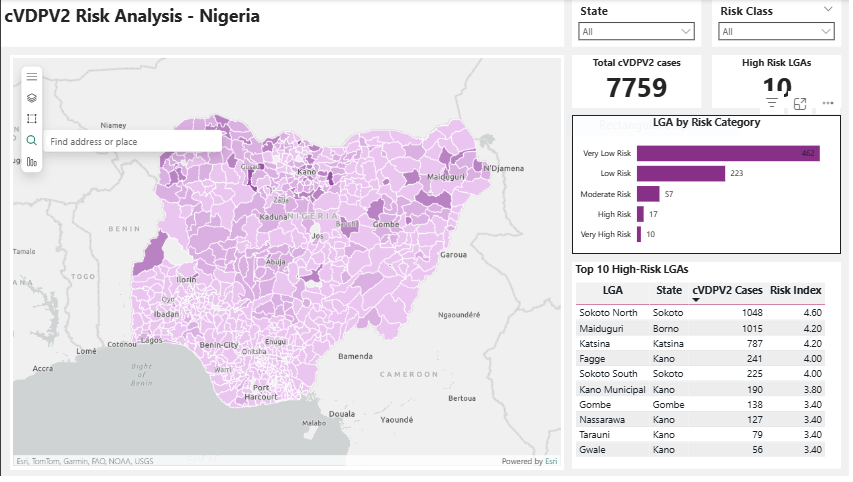

What the dashboard file says about the page in this screenshot:
{"tool":"powerbi","page":{"name":"Page 1","canvas":[1280,720],"ordinal":0},"visuals":[{"type":"esriVisual","fields":{"Location":["LGA x cVDPV2 x Pop_den.Location"],"Color":["Sum(LGA x cVDPV2 x Pop_den.Risk Index)"]},"box":[13.6,84.5,836.2,624.9],"z":0},{"type":"card","title":"Total cVDPV2 cases","fields":{"Values":["Sum(LGA x cVDPV2 x Pop_den.features.properties.cDVPV2_Sum)"]},"box":[861.9,84,195,80],"z":1000},{"type":"card","title":"High Risk LGAs","fields":{"Values":["LGA x cVDPV2 x Pop_den.High Risk LGAs"]},"box":[1073.2,84.5,194.7,80],"z":2000},{"type":"barChart","title":"LGA by Risk Category","fields":{"Category":["LGA x cVDPV2 x Pop_den.Risk Class"],"Y":["CountNonNull(LGA x cVDPV2 x Pop_den.features.properties.lganame)"]},"box":[861.9,175.6,406,209.8],"z":3000},{"type":"tableEx","title":"Top 10 High-Risk LGAs","fields":{"Values":["LGA x cVDPV2 x Pop_den.features.properties.lganame","LGA x cVDPV2 x Pop_den.features.properties.statename","Sum(LGA x cVDPV2 x Pop_den.features.properties.cDVPV2_Sum)","Sum(LGA x cVDPV2 x Pop_den.Risk Index)"]},"box":[861.9,397,406,312.5],"z":4000},{"type":"textbox","box":[0,0,849.8,72.5],"z":4001},{"type":"slicer","fields":{"Values":["LGA x cVDPV2 x Pop_den.State"]},"box":[861.9,0,194.7,72.5],"z":4002},{"type":"slicer","fields":{"Values":["LGA x cVDPV2 x Pop_den.Risk Class"]},"box":[1073.2,0,194.7,72.5],"z":4003}]}

Visuals, with their boxes on the page's 1280x720 design canvas (x1, y1, x2, y2). These are canvas units, not pixel positions in the 853x482 screenshot, which may show the page scaled, cropped or inside an application window:
esriVisual - LGA x cVDPV2 x Pop_den.Location x Sum(LGA x cVDPV2 x Pop_den.Risk Index): bbox=[14, 84, 850, 709]
"Total cVDPV2 cases" card: bbox=[862, 84, 1057, 164]
"High Risk LGAs" card: bbox=[1073, 84, 1268, 164]
"LGA by Risk Category" barChart: bbox=[862, 176, 1268, 385]
"Top 10 High-Risk LGAs" tableEx: bbox=[862, 397, 1268, 710]
textbox: bbox=[0, 0, 850, 72]
slicer - LGA x cVDPV2 x Pop_den.State: bbox=[862, 0, 1057, 72]
slicer - LGA x cVDPV2 x Pop_den.Risk Class: bbox=[1073, 0, 1268, 72]
